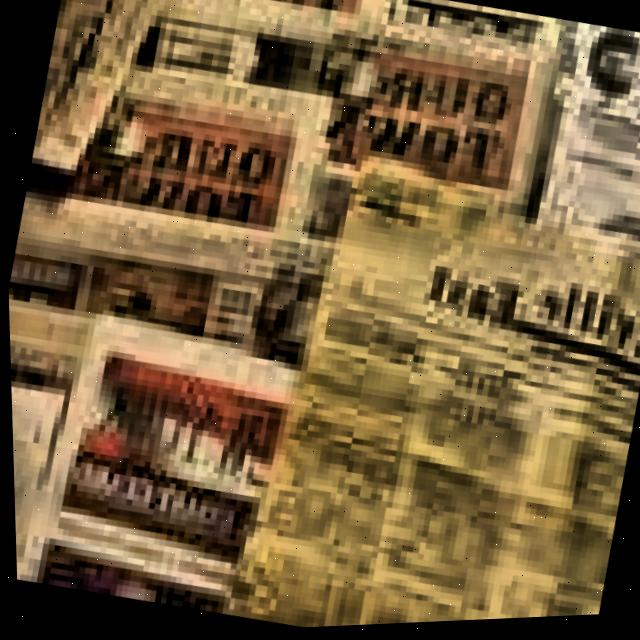paper: (7, 0, 640, 373), (214, 164, 640, 630)
